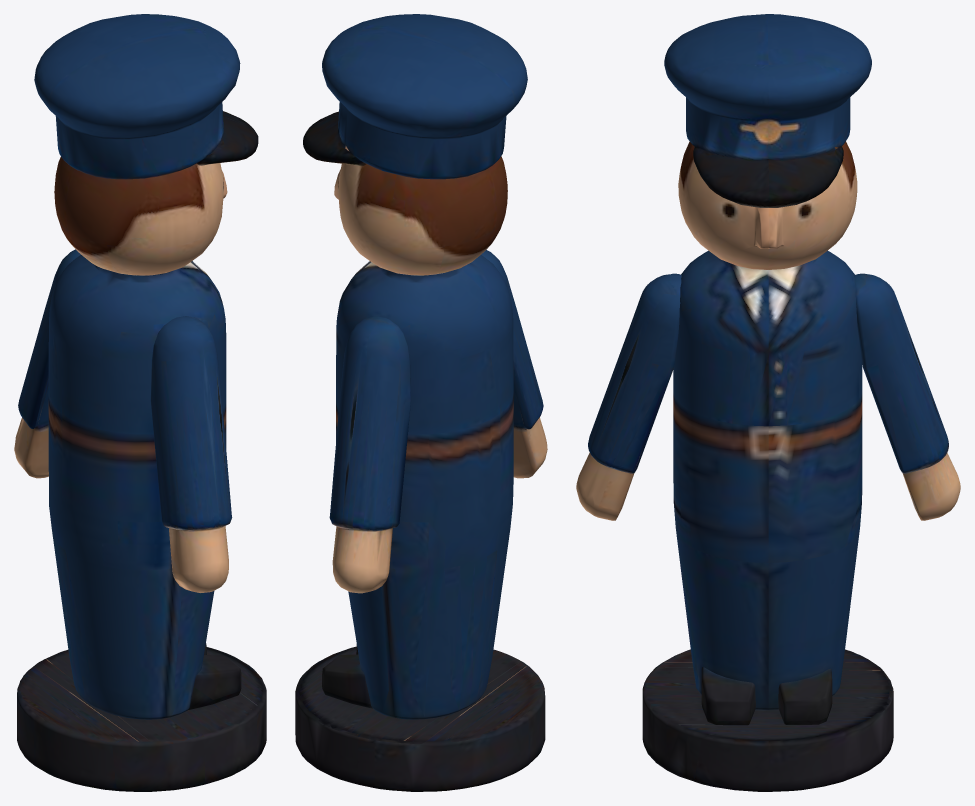
Rendered from person_conductor.glb.
3 views of the same model, side by side, from view 1: azimuth 30°, elevation 25°; view 2: azimuth 150°, elevation 25°; view 3: azimuth 270°, elevation 25° (orthographic).
Parts seen in each view (by area): view 1: tripo_node_48513889-7ef9-47aa-b8bb-33543998dc8d; view 2: tripo_node_48513889-7ef9-47aa-b8bb-33543998dc8d; view 3: tripo_node_48513889-7ef9-47aa-b8bb-33543998dc8d.
Part boxes in pixels (<box>): tripo_node_48513889-7ef9-47aa-b8bb-33543998dc8d: <box>14,14,266,791</box>; tripo_node_48513889-7ef9-47aa-b8bb-33543998dc8d: <box>295,14,547,791</box>; tripo_node_48513889-7ef9-47aa-b8bb-33543998dc8d: <box>576,14,960,791</box>.
Bounding box in the file's own units: 0.3218 × 0.9995 × 0.4927.
Materials: 1 (1 with a texture image).
